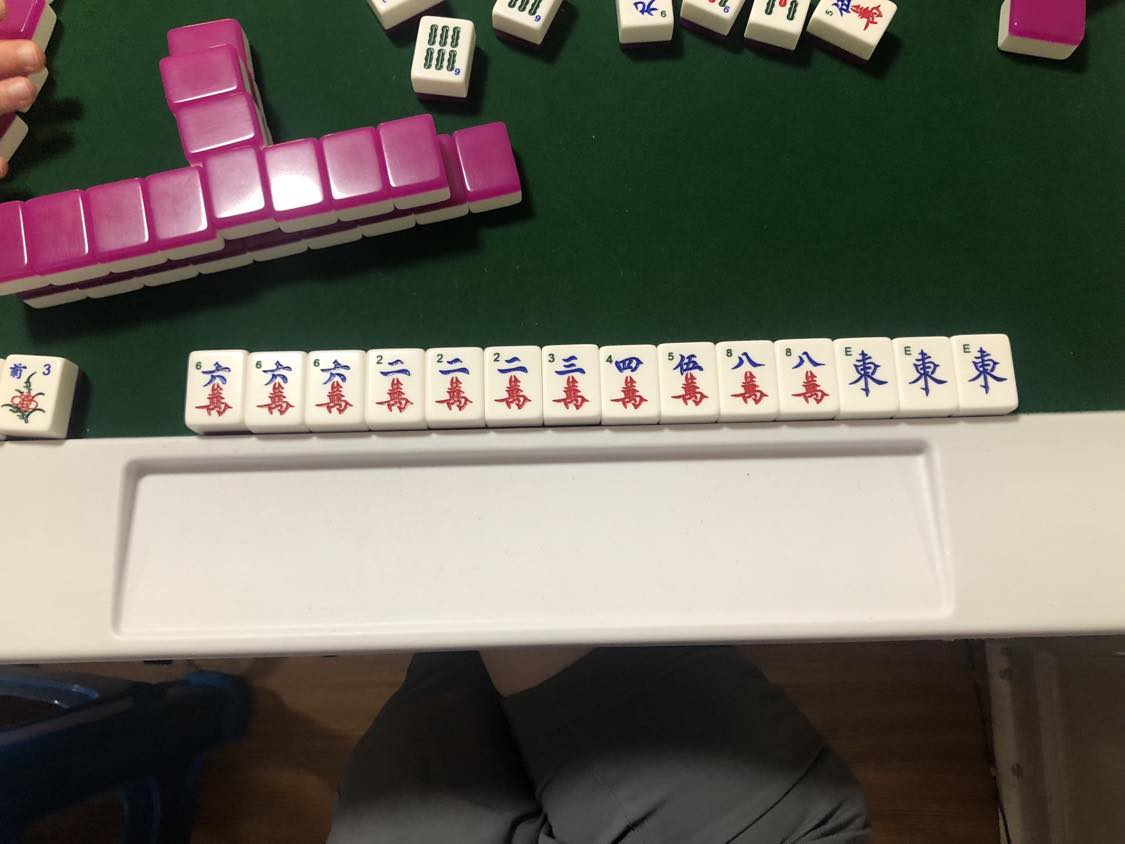character-eight: (784, 344, 833, 408), (724, 345, 772, 409)
character-five: (661, 347, 713, 409)
character-four: (603, 350, 652, 411)
character-six: (311, 354, 358, 423), (249, 358, 300, 418), (193, 356, 239, 420)
character-three: (546, 350, 595, 414)
character-two: (369, 350, 420, 417), (433, 351, 480, 414), (490, 351, 537, 413)
honor-east_wind: (901, 342, 951, 402), (961, 338, 1007, 398), (843, 345, 890, 402)
